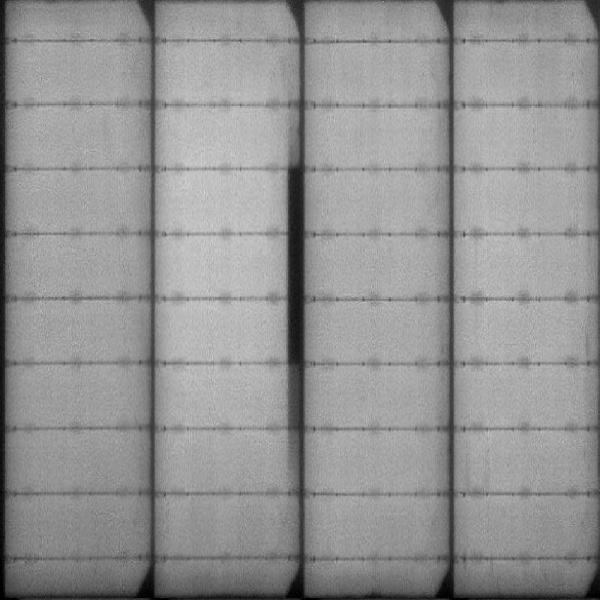black_border: (282, 154, 309, 444)
